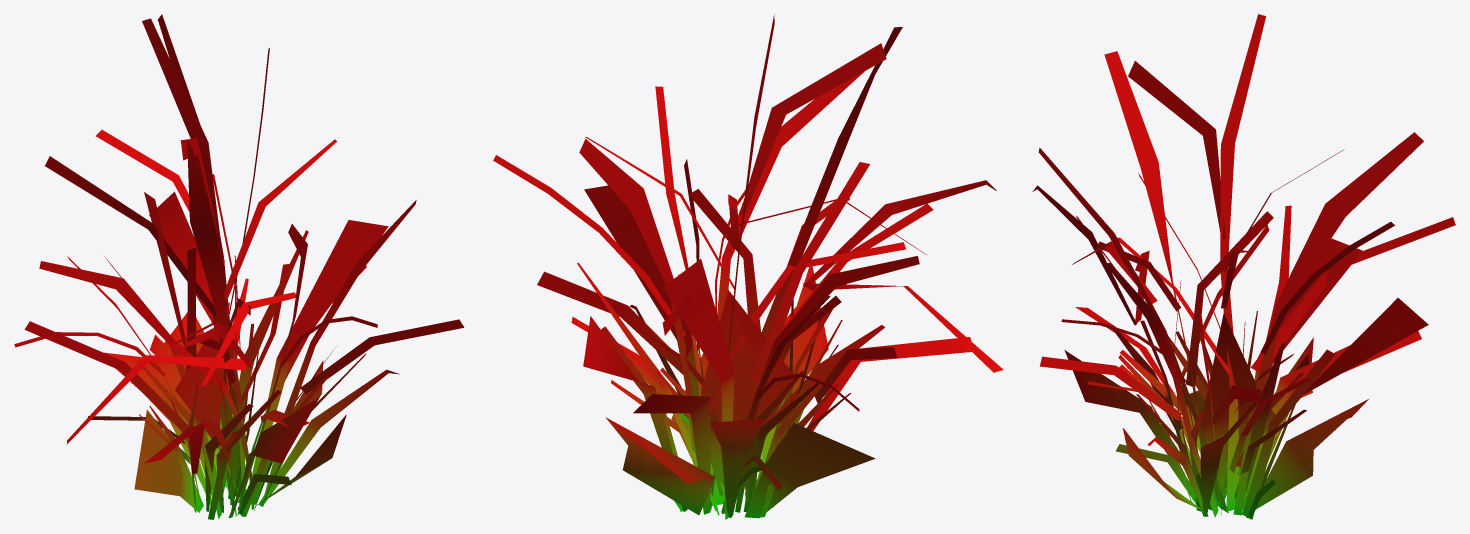
File: Var5_LOD2.fbx
3 views of the same model, side by side, from view 1: azimuth 30°, elevation 25°; view 2: azimuth 150°, elevation 25°; view 3: azimuth 270°, elevation 25° (orthographic). The views are drawn at different scales.
Parts seen in each view (by area): view 1: _45bf_Var5_LOD2; view 2: _45bf_Var5_LOD2; view 3: _45bf_Var5_LOD2.
Part boxes in pixels (left/top/right/bottom): _45bf_Var5_LOD2: left=14, top=14, right=464, bottom=519; _45bf_Var5_LOD2: left=493, top=14, right=1003, bottom=519; _45bf_Var5_LOD2: left=1032, top=14, right=1455, bottom=519.
Bounding box in the file's own units: 122 × 155 × 128.
